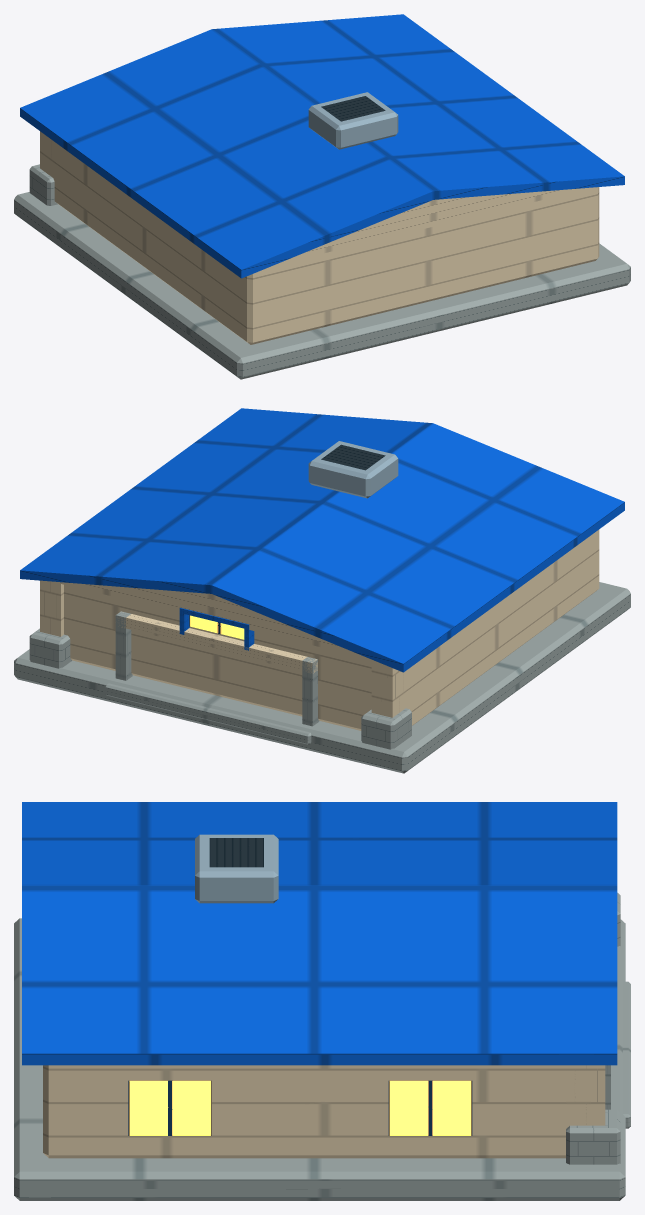
File: bld-utility-workshop-2x2.glb
3 views of the same model, one above another, from view 1: azimuth 30°, elevation 25°; view 2: azimuth 150°, elevation 25°; view 3: azimuth 270°, elevation 25° (orthographic). The views are drawn at different scales.
Visible parts, largest first — view 1: bld-utility-workshop-2x2; view 2: bld-utility-workshop-2x2; view 3: bld-utility-workshop-2x2.
Boxes of the visible parts, left/top/right/bottom form: bld-utility-workshop-2x2: left=14, top=14, right=630, bottom=379; bld-utility-workshop-2x2: left=14, top=408, right=630, bottom=773; bld-utility-workshop-2x2: left=14, top=802, right=630, bottom=1200.
Size of the model in its own units: 1.9 by 0.7594 by 1.92.
Materials: 1 (1 with a texture image).
